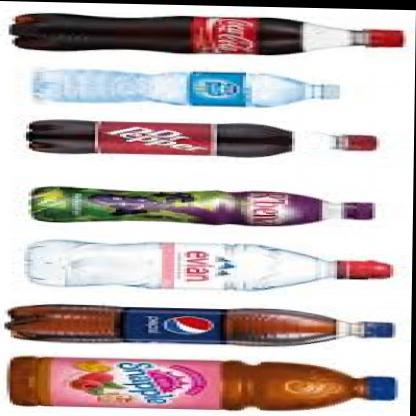Plastic: (0, 350, 409, 412), (0, 8, 413, 64), (0, 236, 405, 293), (0, 110, 393, 166), (0, 296, 403, 350), (0, 182, 386, 229), (0, 66, 382, 110)
